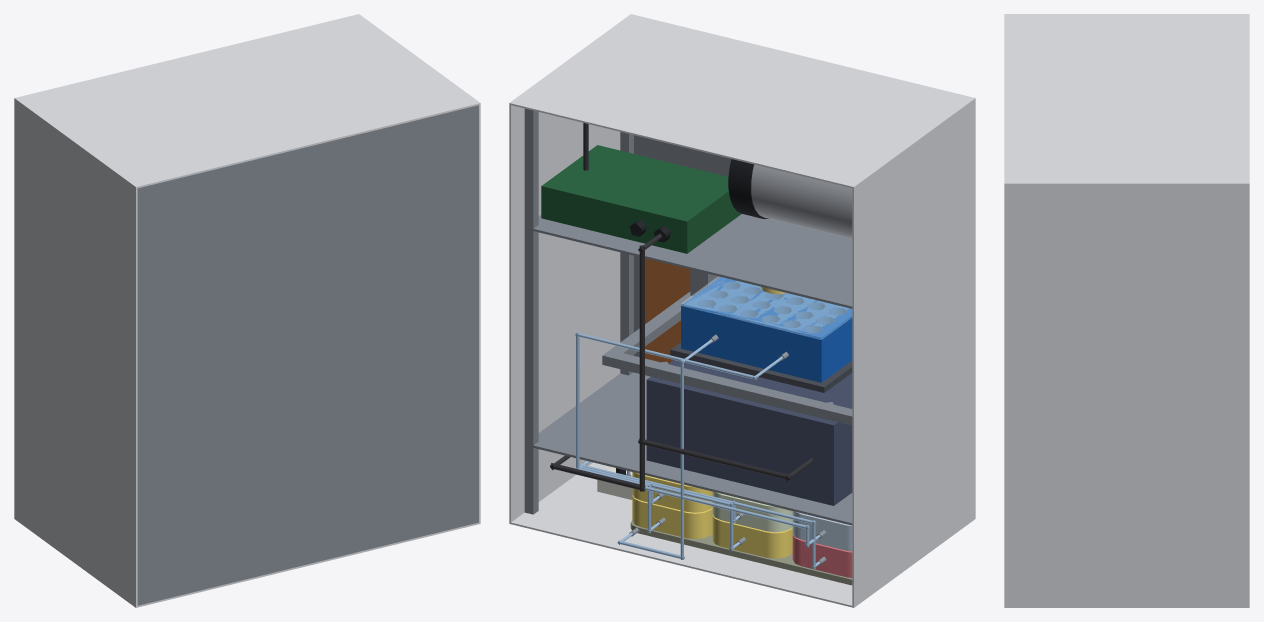
File: MOD-t-cell-activation.glb
3 views of the same model, side by side, from view 1: azimuth 30°, elevation 25°; view 2: azimuth 150°, elevation 25°; view 3: azimuth 270°, elevation 25° (orthographic).
Visible parts, largest first — view 1: housing__back_panel_bay_interface, housing__side_panel_L, housing__top_panel, housing__bottom_panel, housing__side_panel_R; view 2: housing__side_panel_L, housing__top_panel, housing__side_panel_R, imaging__microscope_base_optics_filter_cubes_camera, electronics__controller_enclosure_boards_data_storage, sample__cassette_24_wells_SBS_footprint_19_3_mm_pitch, housing__shelf_2, housing__bottom_panel, housing__shelf_1, housing__corner_post_4, sample__cassette_lid_sealed_and_gas_permeable, imaging__XY_stage_frame_travel_96_5_x_57_9_mm_every_well_ove (+19 smaller); view 3: housing__side_panel_R, housing__top_panel, housing__bottom_panel.
Part boxes in pixels (x1,y1,x2,y2): housing__back_panel_bay_interface: (137, 105, 478, 605); housing__side_panel_L: (14, 100, 137, 605); housing__top_panel: (14, 14, 480, 188); housing__bottom_panel: (14, 517, 480, 607); housing__side_panel_R: (479, 105, 480, 522); housing__side_panel_L: (852, 100, 975, 605); housing__top_panel: (509, 14, 975, 188); housing__side_panel_R: (509, 105, 620, 522); imaging__microscope_base_optics_filter_cubes_camera: (646, 360, 852, 505); electronics__controller_enclosure_boards_data_storage: (541, 145, 741, 253); sample__cassette_24_wells_SBS_footprint_19_3_mm_pitch: (681, 277, 852, 382); housing__shelf_2: (524, 214, 852, 308); housing__bottom_panel: (509, 462, 975, 607); housing__shelf_1: (524, 372, 852, 525); housing__corner_post_4: (524, 108, 538, 514); sample__cassette_lid_sealed_and_gas_permeable: (681, 276, 851, 339); imaging__XY_stage_frame_travel_96_5_x_57_9_mm_every_well_ove: (602, 291, 852, 425); housing__side_panel_R: (1004, 185, 1249, 606); housing__top_panel: (1004, 14, 1249, 185); housing__bottom_panel: (1004, 606, 1249, 607).
Size of the model in its own units: 0.313 by 0.3652 by 0.1913.
